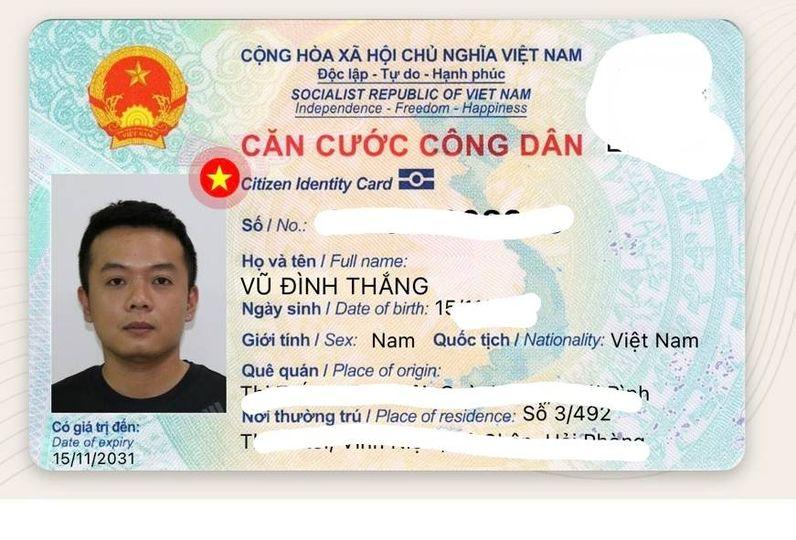bottom_left: (18, 444, 61, 482)
bottom_right: (702, 440, 760, 490)
image_person: (51, 173, 228, 411)
top_left: (23, 9, 80, 52)
top_right: (712, 15, 758, 44)
